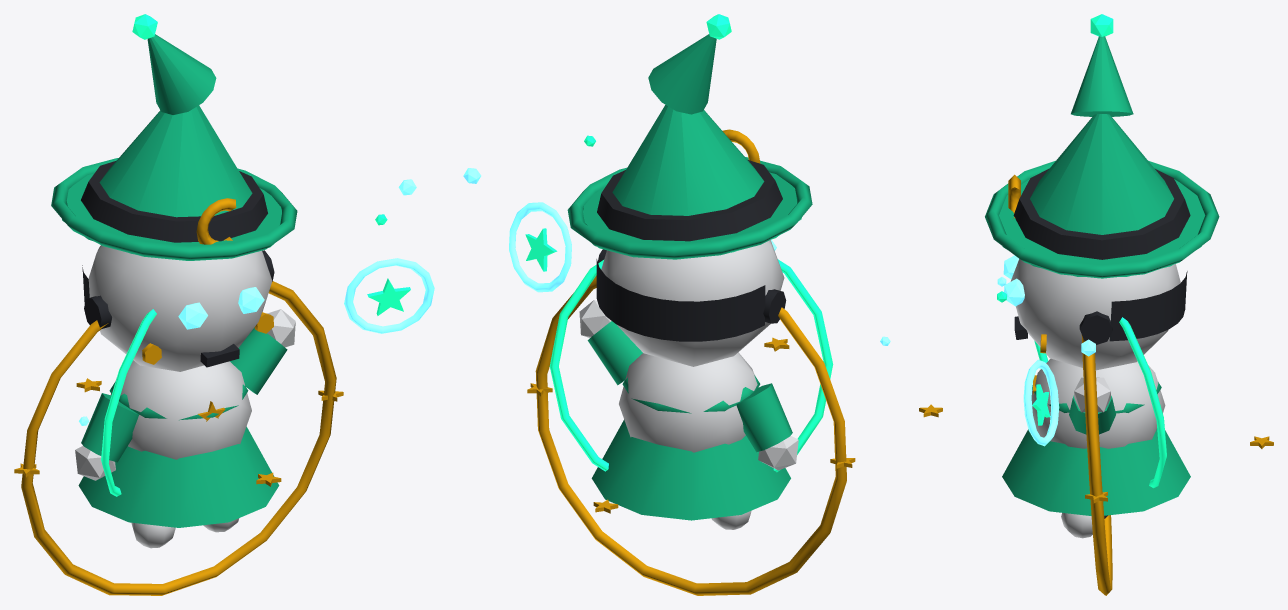
File: player-robot-2.glb
3 views of the same model, side by side, from view 1: azimuth 30°, elevation 25°; view 2: azimuth 150°, elevation 25°; view 3: azimuth 270°, elevation 25° (orthographic). The views are drawn at different scales.
Parts seen in each view (by area): view 1: skull, body_skirt, hat_cone, body, rune_ring_major, hat_band, hat_brim_curl, hat_cone_tip, hat_brim, sleeve_r, sleeve_l, sigil_ring (+10 smaller); view 2: body_skirt, hat_cone, body, skull, rune_ring_major, visor_band, hat_band, hat_brim_curl, rune_ring_minor, hat_cone_tip, sleeve_l, hat_brim (+7 smaller); view 3: hat_cone, body_skirt, skull, body, hat_band, hat_brim_curl, rune_ring_major, hat_brim, hat_cone_tip, visor_band, rune_ring_minor, sigil_ring (+4 smaller).
Part boxes in pixels (left/top/right/bottom): skull: left=88, top=245, right=272, bottom=371; body_skirt: left=78, top=426, right=279, bottom=527; hat_cone: left=99, top=105, right=252, bottom=217; body: left=110, top=360, right=251, bottom=459; rune_ring_major: left=21, top=281, right=336, bottom=595; hat_band: left=81, top=161, right=267, bottom=242; hat_brim_curl: left=51, top=158, right=297, bottom=260; hat_cone_tip: left=147, top=34, right=216, bottom=114; hat_brim: left=62, top=173, right=281, bottom=260; sleeve_r: left=230, top=327, right=287, bottom=394; sleeve_l: left=81, top=393, right=138, bottom=462; sigil_ring: left=344, top=258, right=434, bottom=333; body_skirt: left=591, top=419, right=790, bottom=520; hat_cone: left=612, top=105, right=764, bottom=215; body: left=619, top=352, right=758, bottom=452; skull: left=601, top=240, right=784, bottom=366; rune_ring_major: left=535, top=275, right=846, bottom=595; visor_band: left=596, top=259, right=765, bottom=341; hat_band: left=597, top=160, right=782, bottom=241; hat_brim_curl: left=567, top=157, right=812, bottom=259; rune_ring_minor: left=549, top=259, right=833, bottom=472; hat_cone_tip: left=648, top=34, right=716, bottom=114; sleeve_l: left=736, top=383, right=792, bottom=452; hat_brim: left=583, top=172, right=801, bottom=258; hat_cone: left=1030, top=114, right=1173, bottom=234; body_skirt: left=1002, top=428, right=1190, bottom=515; skull: left=1010, top=259, right=1180, bottom=370; body: left=1031, top=358, right=1165, bottom=448; hat_band: left=1013, top=168, right=1190, bottom=259; hat_brim_curl: left=985, top=160, right=1219, bottom=278; rune_ring_major: left=1081, top=335, right=1112, bottom=595; hat_brim: left=999, top=179, right=1205, bottom=276; hat_cone_tip: left=1071, top=36, right=1133, bottom=116; visor_band: left=1109, top=271, right=1187, bottom=341; rune_ring_minor: left=1034, top=317, right=1166, bottom=488; sigil_ring: left=1023, top=359, right=1059, bottom=446.
Size of the model in its own units: 1.09 by 1.55 by 0.9009.
